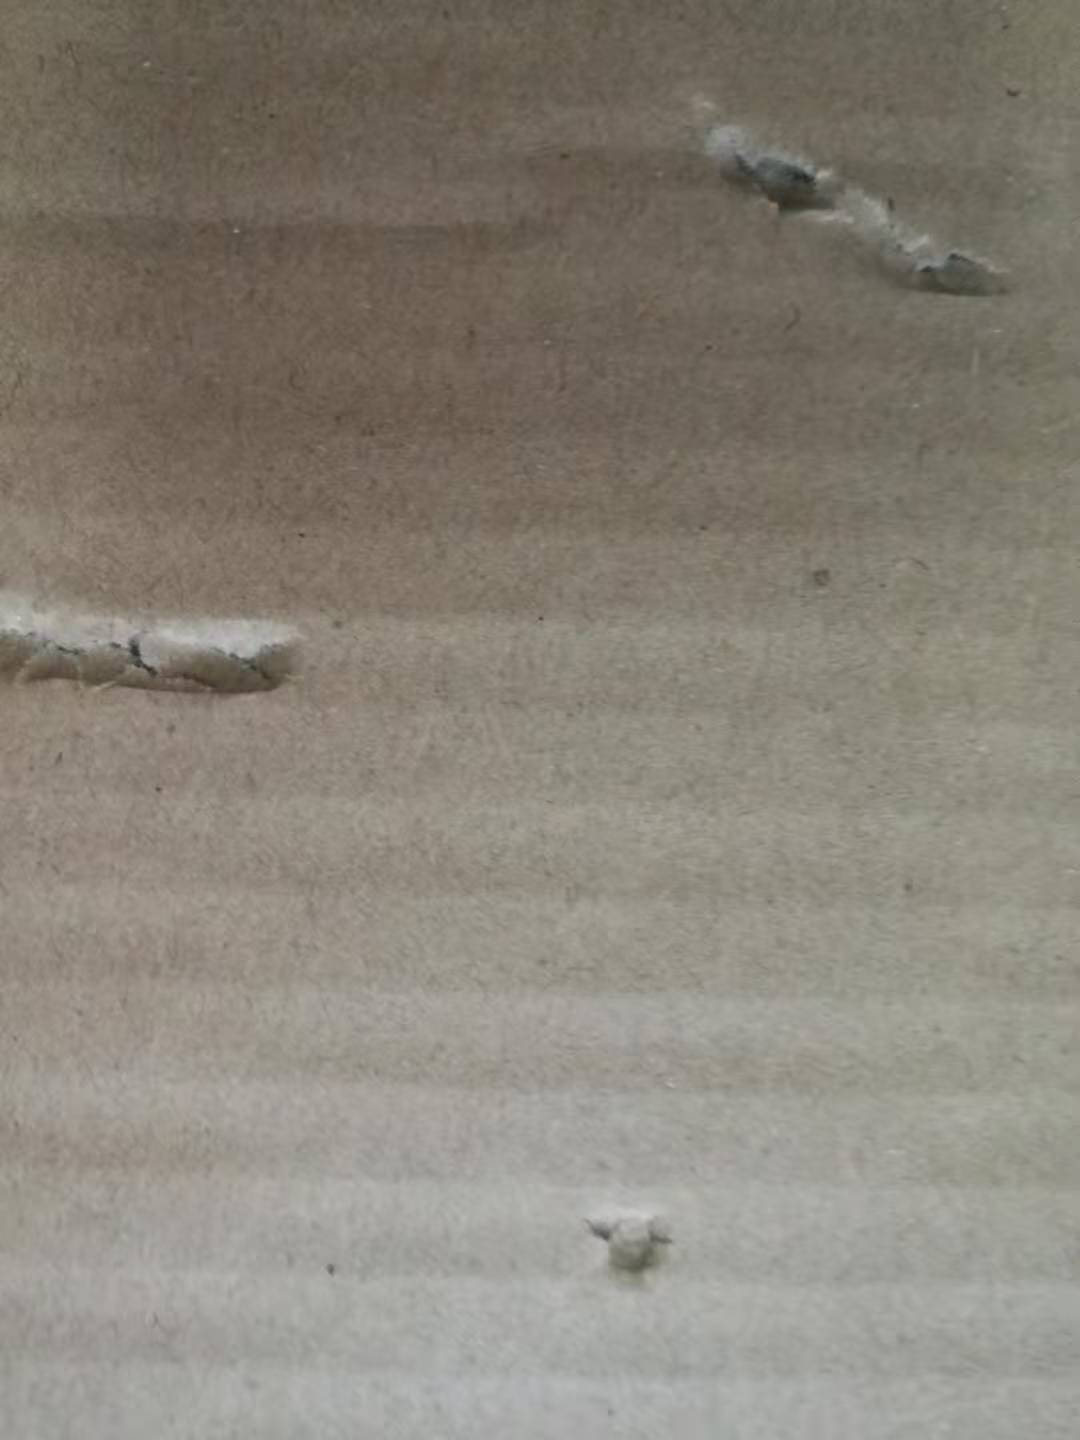defect: (646, 58, 1043, 351), (1, 530, 341, 749), (552, 1175, 708, 1321)
